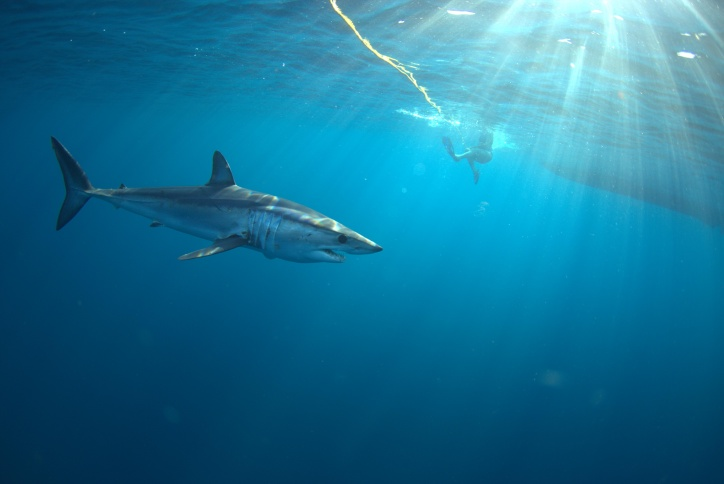Mako: (41, 128, 387, 293)
